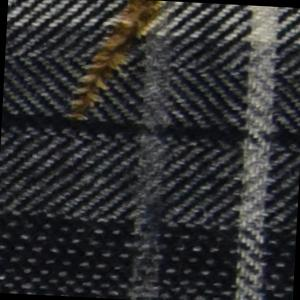Oil Stain: (57, 1, 172, 130)
